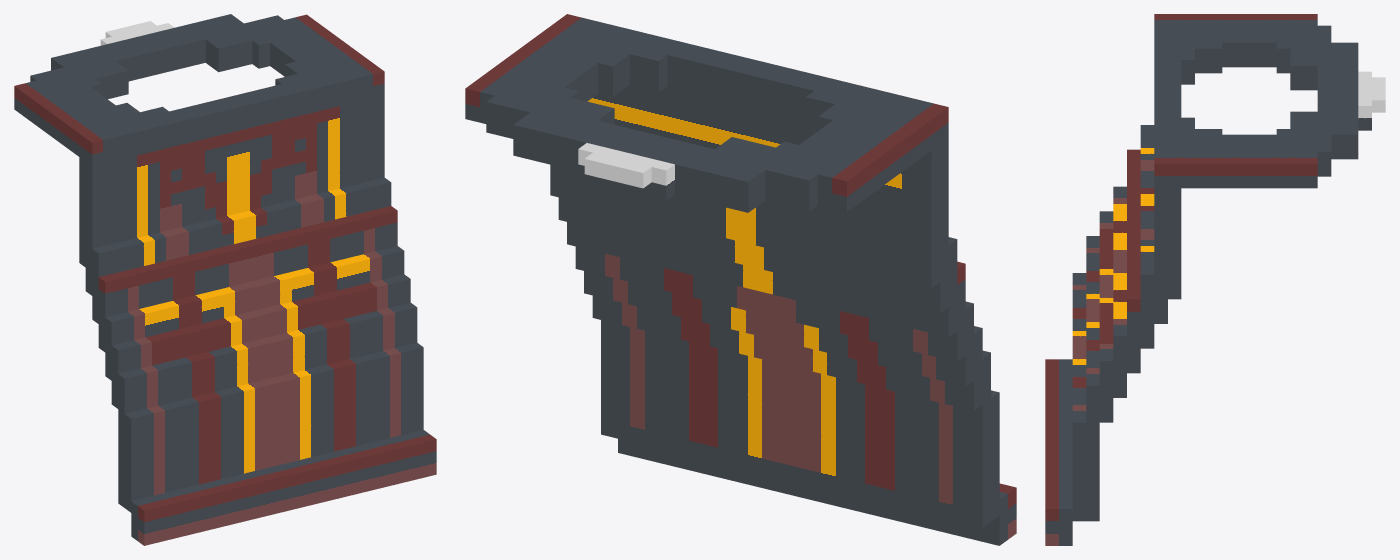
File: 哈利波特-巫师长袍.gltf
3 renders of one model, left to right at view 1: azimuth 30°, elevation 25°; view 2: azimuth 150°, elevation 25°; view 3: azimuth 270°, elevation 25°, orthographic. The views are drawn at different scales.
Visible parts, largest first — view 1: Object; view 2: Object; view 3: Object.
Part boxes in pixels (x1,y1,x2,y2): Object: (14,14,436,545); Object: (465,14,1016,545); Object: (1045,14,1385,545).
Bounding box in the file's own units: 26 × 31 × 25.
Materials: 1 (1 with a texture image).
